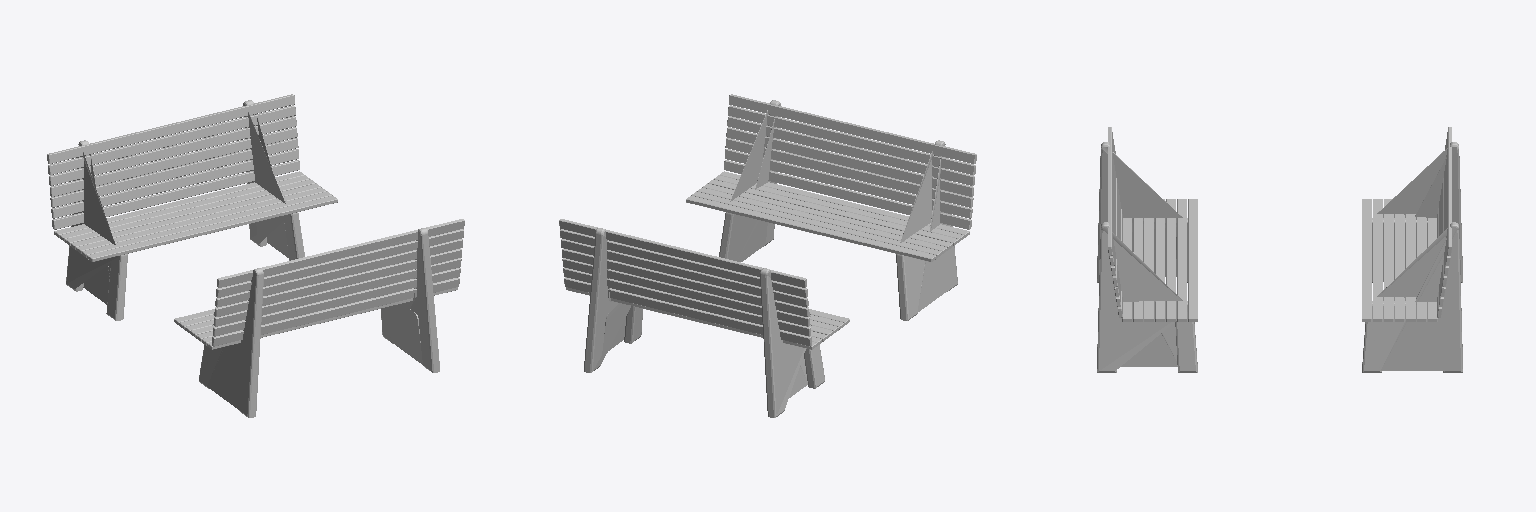
The model's file is bancs_publiques.obj.
3 renders of one model, left to right at view 1: azimuth 30°, elevation 25°; view 2: azimuth 150°, elevation 25°; view 3: azimuth 270°, elevation 25°, orthographic.
Visible parts, largest first — view 1: PUBLIC_BENCH bancs_publiques banc pied_banc02 Arrondi_11 Couverc, PUBLIC_BENCH bancs_publiques banc planches Instance3, PUBLIC_BENCH bancs_publiques banc planches Instance2, PUBLIC_BENCH bancs_publiques banc planches Instance11, PUBLIC_BENCH bancs_publiques banc pied_banc01 Arrondi_1 Couvercl, PUBLIC_BENCH bancs_publiques banc planches Instance6, PUBLIC_BENCH bancs_publiques banc planches Instance12, PUBLIC_BENCH bancs_publiques banc planches Instance5, PUBLIC_BENCH bancs_publiques banc planches Instance4, PUBLIC_BENCH bancs_publiques banc planches planche, PUBLIC_BENCH bancs_publiques banc planches Instance, PUBLIC_BENCH bancs_publiques banc planches Instance9 (+10 smaller); view 2: PUBLIC_BENCH bancs_publiques banc planches Instance3, PUBLIC_BENCH bancs_publiques banc pied_banc02 Arrondi_11 Couverc, PUBLIC_BENCH bancs_publiques banc planches Instance2, PUBLIC_BENCH bancs_publiques banc planches Instance11, PUBLIC_BENCH bancs_publiques banc planches Instance6, PUBLIC_BENCH bancs_publiques banc planches Instance12, PUBLIC_BENCH bancs_publiques banc planches Instance5, PUBLIC_BENCH bancs_publiques banc planches Instance4, PUBLIC_BENCH bancs_publiques banc pied_banc01 Arrondi_1 Couvercl, PUBLIC_BENCH bancs_publiques banc planches planche, PUBLIC_BENCH bancs_publiques banc planches Instance, PUBLIC_BENCH bancs_publiques banc planches Instance9 (+10 smaller); view 3: PUBLIC_BENCH bancs_publiques banc pied_banc01 Arrondi_2 Couvercl, PUBLIC_BENCH bancs_publiques banc pied_banc02 Arrondi_21 Couverc, PUBLIC_BENCH bancs_publiques banc pied_banc01 Arrondi_1 Couvercl, PUBLIC_BENCH bancs_publiques banc planches planche, PUBLIC_BENCH bancs_publiques banc planches Instance9, PUBLIC_BENCH bancs_publiques banc planches Instance8, PUBLIC_BENCH bancs_publiques banc planches Instance7, PUBLIC_BENCH bancs_publiques banc pied_banc02 Arrondi_11 Couverc, PUBLIC_BENCH bancs_publiques banc planches Instance1, PUBLIC_BENCH bancs_publiques banc planches Instance3, PUBLIC_BENCH bancs_publiques banc planches Instance10, PUBLIC_BENCH bancs_publiques banc pied_banc01 Arrondi_2 (+2 smaller).
Boxes of the visible parts, x1=… form: PUBLIC_BENCH bancs_publiques banc pied_banc02 Arrondi_11 Couverc: x1=66, y1=144, x2=255, y2=415; PUBLIC_BENCH bancs_publiques banc planches Instance3: x1=47, y1=94, x2=464, y2=287; PUBLIC_BENCH bancs_publiques banc planches Instance2: x1=48, y1=105, x2=463, y2=297; PUBLIC_BENCH bancs_publiques banc planches Instance11: x1=49, y1=116, x2=462, y2=307; PUBLIC_BENCH bancs_publiques banc pied_banc01 Arrondi_1 Couvercl: x1=243, y1=104, x2=430, y2=370; PUBLIC_BENCH bancs_publiques banc planches Instance6: x1=50, y1=127, x2=461, y2=316; PUBLIC_BENCH bancs_publiques banc planches Instance12: x1=50, y1=138, x2=461, y2=326; PUBLIC_BENCH bancs_publiques banc planches Instance5: x1=51, y1=149, x2=460, y2=336; PUBLIC_BENCH bancs_publiques banc planches Instance4: x1=52, y1=160, x2=459, y2=346; PUBLIC_BENCH bancs_publiques banc planches planche: x1=87, y1=196, x2=337, y2=324; PUBLIC_BENCH bancs_publiques banc planches Instance: x1=54, y1=171, x2=457, y2=349; PUBLIC_BENCH bancs_publiques banc planches Instance9: x1=82, y1=191, x2=332, y2=329; PUBLIC_BENCH bancs_publiques banc planches Instance3: x1=559, y1=94, x2=976, y2=287; PUBLIC_BENCH bancs_publiques banc pied_banc02 Arrondi_11 Couverc: x1=768, y1=144, x2=957, y2=415; PUBLIC_BENCH bancs_publiques banc planches Instance2: x1=560, y1=105, x2=975, y2=297; PUBLIC_BENCH bancs_publiques banc planches Instance11: x1=561, y1=116, x2=974, y2=307; PUBLIC_BENCH bancs_publiques banc planches Instance6: x1=562, y1=127, x2=973, y2=316; PUBLIC_BENCH bancs_publiques banc planches Instance12: x1=562, y1=138, x2=973, y2=326; PUBLIC_BENCH bancs_publiques banc planches Instance5: x1=563, y1=149, x2=972, y2=336; PUBLIC_BENCH bancs_publiques banc planches Instance4: x1=564, y1=160, x2=971, y2=346; PUBLIC_BENCH bancs_publiques banc pied_banc01 Arrondi_1 Couvercl: x1=593, y1=104, x2=780, y2=370; PUBLIC_BENCH bancs_publiques banc planches planche: x1=686, y1=196, x2=936, y2=324; PUBLIC_BENCH bancs_publiques banc planches Instance: x1=566, y1=171, x2=969, y2=349; PUBLIC_BENCH bancs_publiques banc planches Instance9: x1=691, y1=191, x2=941, y2=329; PUBLIC_BENCH bancs_publiques banc pied_banc01 Arrondi_2 Couvercl: x1=1099, y1=227, x2=1460, y2=370; PUBLIC_BENCH bancs_publiques banc pied_banc02 Arrondi_21 Couverc: x1=1099, y1=147, x2=1460, y2=281; PUBLIC_BENCH bancs_publiques banc pied_banc01 Arrondi_1 Couvercl: x1=1121, y1=228, x2=1447, y2=366; PUBLIC_BENCH bancs_publiques banc planches planche: x1=1188, y1=199, x2=1371, y2=321; PUBLIC_BENCH bancs_publiques banc planches Instance9: x1=1177, y1=199, x2=1382, y2=321; PUBLIC_BENCH bancs_publiques banc planches Instance8: x1=1166, y1=199, x2=1393, y2=321; PUBLIC_BENCH bancs_publiques banc planches Instance7: x1=1155, y1=199, x2=1404, y2=321; PUBLIC_BENCH bancs_publiques banc pied_banc02 Arrondi_11 Couverc: x1=1143, y1=148, x2=1447, y2=276; PUBLIC_BENCH bancs_publiques banc planches Instance1: x1=1144, y1=214, x2=1415, y2=321; PUBLIC_BENCH bancs_publiques banc planches Instance3: x1=1108, y1=127, x2=1451, y2=255; PUBLIC_BENCH bancs_publiques banc planches Instance10: x1=1133, y1=217, x2=1426, y2=321; PUBLIC_BENCH bancs_publiques banc pied_banc01 Arrondi_2: x1=1097, y1=225, x2=1462, y2=372.
Bounding box in the file's own units: 148 × 82.13 × 190.